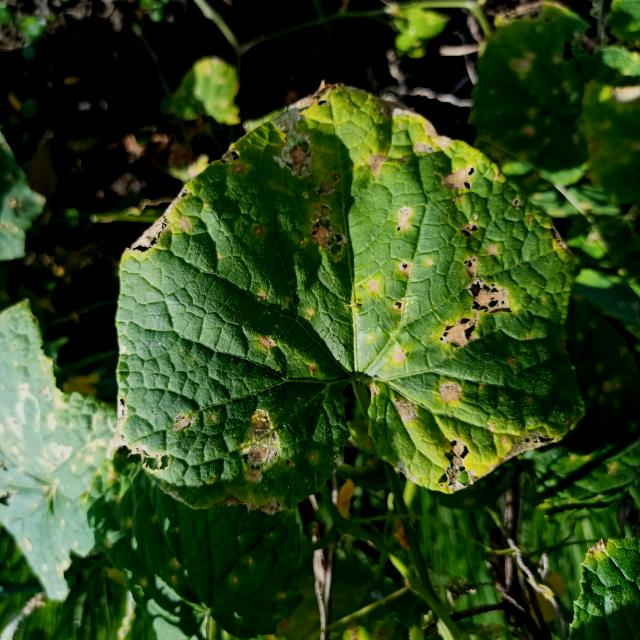disease_cucumber: (141, 92, 578, 513)
